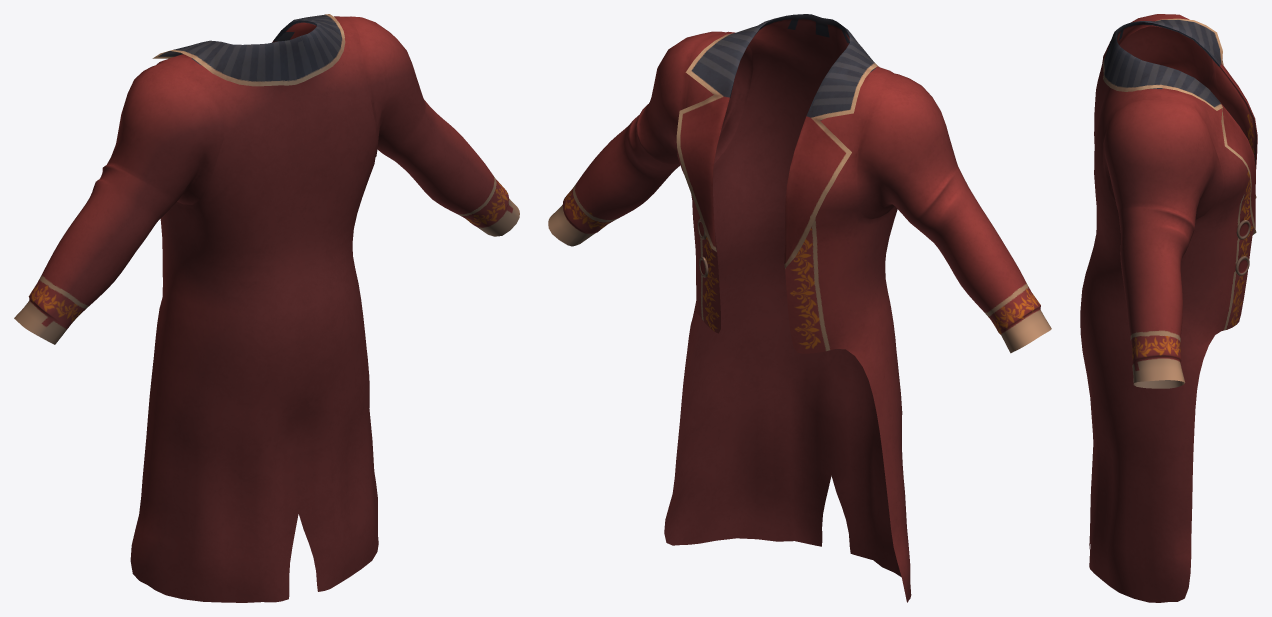
Rendered from 1 mens-steampunk-frack-coat.glb.
3 views of the same model, side by side, from view 1: azimuth 30°, elevation 25°; view 2: azimuth 150°, elevation 25°; view 3: azimuth 270°, elevation 25° (orthographic). The views are drawn at different scales.
Parts seen in each view (by area): view 1: SteampunkFrack; view 2: SteampunkFrack; view 3: SteampunkFrack.
Part boxes in pixels (left/top/right/bottom): SteampunkFrack: left=14, top=14, right=519, bottom=602; SteampunkFrack: left=548, top=14, right=1051, bottom=602; SteampunkFrack: left=1080, top=14, right=1257, bottom=602.
Bounding box in the file's own units: 0.9887 × 1.05 × 0.3231.
1 material, 1 textured.
